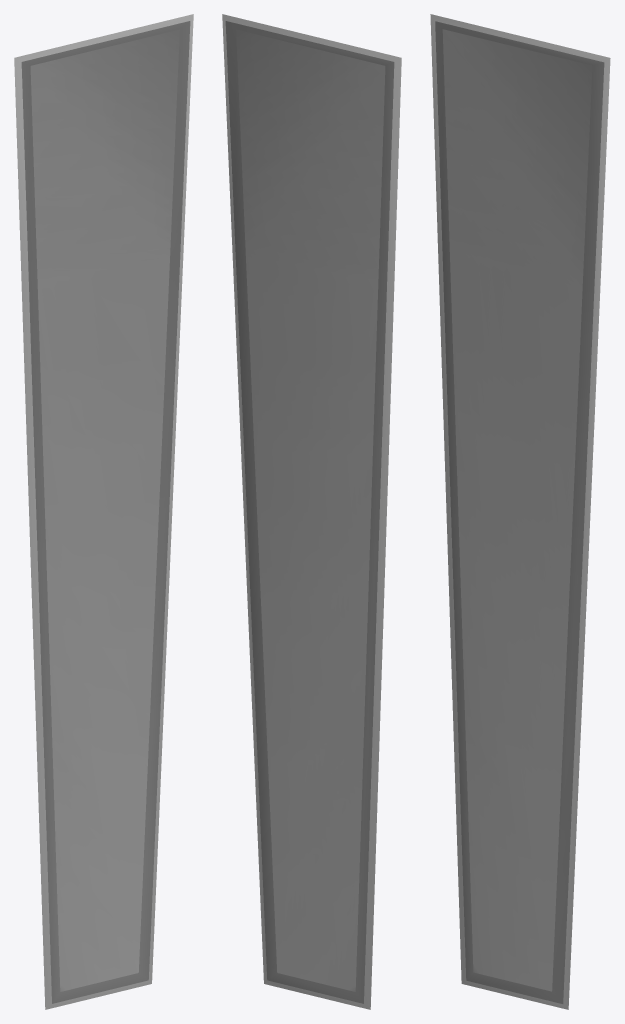
The model's file is stone_blade (19).glb.
The picture shows the model from 3 angles, left to right: view 1: azimuth 30°, elevation 25°; view 2: azimuth 150°, elevation 25°; view 3: azimuth 330°, elevation 25°; orthographic projection.
Parts seen in each view (by area): view 1: stone_blade_unscratched.039; view 2: stone_blade_unscratched.039; view 3: stone_blade_unscratched.039.
Part boxes in pixels (x1,y1,x2,y2): stone_blade_unscratched.039: (14, 14, 193, 1009); stone_blade_unscratched.039: (222, 14, 401, 1009); stone_blade_unscratched.039: (430, 14, 610, 1009).
Size of the model in its own units: 2.19 by 11.21 by 0.0882.
Materials: 1 (1 with a texture image).
